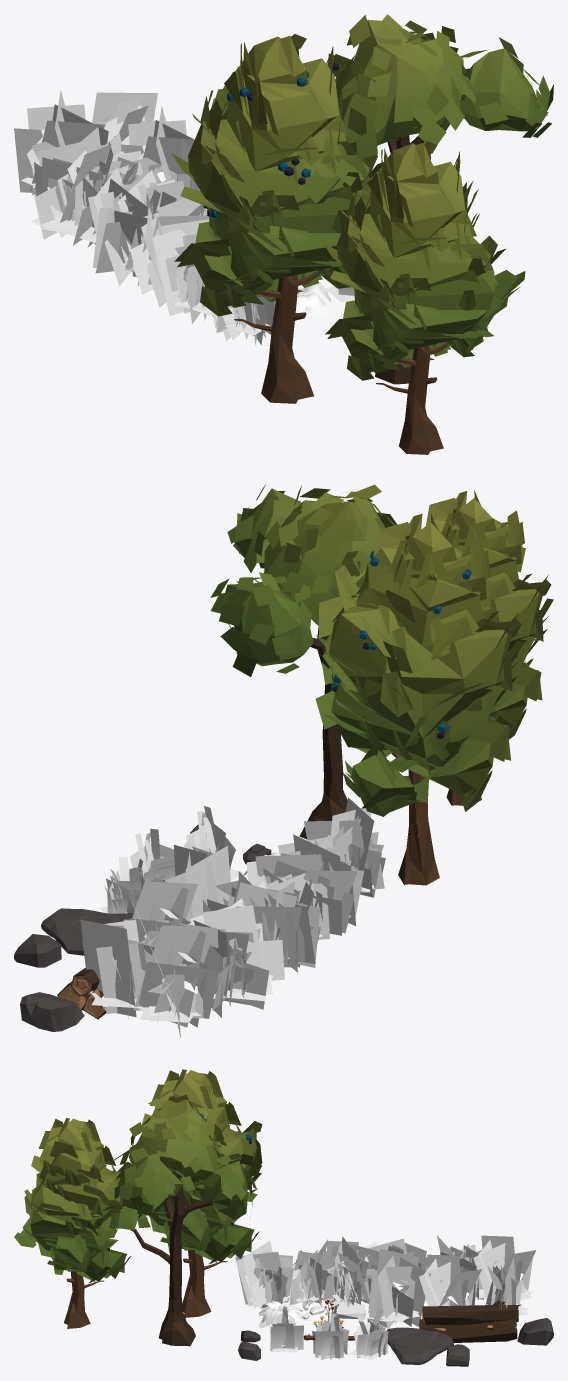
Rendered from tree.glb.
3 renders of one model, top to bottom at view 1: azimuth 30°, elevation 25°; view 2: azimuth 150°, elevation 25°; view 3: azimuth 270°, elevation 25°, orthographic. The views are drawn at different scales.
Parts seen in each view (by area): view 1: tree-juniper-common-generic-sapling-a, tree-juniper-common-generic-sapling-b, tree-oak-english-generic-young-a, Plant_076, Plant_075, Plant_057, Plant_073, Plant_057.001, Plant_074, Plant_060, Plant_072, Plant_Assets_B_020; view 2: tree-juniper-common-generic-sapling-a, tree-oak-english-generic-young-a, tree-juniper-common-generic-sapling-b, Plant_057, Plant_076, Plant_075, Plant_060, Plant_074, Plant_072, Plant_056, Plant_057.001, rock-generic-flat-b (+7 smaller); view 3: tree-oak-english-generic-young-a, tree-juniper-common-generic-sapling-b, tree-juniper-common-generic-sapling-a, Plant_056, tree-oak-english-part-log-pile-a, Plant_072, Plant_074, Plant_057.001, Plant_057, Plant_073, rock-generic-flat-b, Plant_Assets_B_062 (+9 smaller).
Part boxes in pixels (bbox=[...]): tree-juniper-common-generic-sapling-a: bbox=[171, 34, 383, 403]; tree-juniper-common-generic-sapling-b: bbox=[323, 141, 525, 454]; tree-oak-english-generic-young-a: bbox=[304, 14, 553, 384]; Plant_076: bbox=[30, 127, 142, 247]; Plant_075: bbox=[88, 167, 205, 286]; Plant_057: bbox=[14, 90, 108, 196]; Plant_073: bbox=[152, 219, 213, 324]; Plant_057.001: bbox=[121, 105, 194, 184]; Plant_074: bbox=[130, 192, 209, 307]; Plant_060: bbox=[92, 92, 159, 144]; Plant_072: bbox=[212, 295, 275, 345]; Plant_Assets_B_020: bbox=[295, 282, 330, 321]; tree-juniper-common-generic-sapling-a: bbox=[315, 513, 524, 885]; tree-oak-english-generic-young-a: bbox=[210, 484, 396, 839]; tree-juniper-common-generic-sapling-b: bbox=[426, 490, 553, 805]; Plant_057: bbox=[133, 921, 220, 1040]; Plant_076: bbox=[159, 904, 284, 1017]; Plant_075: bbox=[207, 871, 320, 972]; Plant_060: bbox=[80, 919, 155, 1019]; Plant_074: bbox=[246, 853, 357, 940]; Plant_072: bbox=[304, 797, 385, 897]; Plant_056: bbox=[165, 845, 238, 922]; Plant_057.001: bbox=[123, 877, 197, 945]; rock-generic-flat-b: bbox=[41, 908, 133, 955]; tree-oak-english-generic-young-a: bbox=[107, 1094, 257, 1346]; tree-juniper-common-generic-sapling-b: bbox=[14, 1118, 131, 1328]; tree-juniper-common-generic-sapling-a: bbox=[137, 1069, 262, 1317]; Plant_056: bbox=[368, 1249, 430, 1328]; tree-oak-english-part-log-pile-a: bbox=[419, 1300, 520, 1342]; Plant_072: bbox=[235, 1241, 293, 1312]; Plant_074: bbox=[322, 1236, 379, 1307]; Plant_057.001: bbox=[419, 1254, 481, 1306]; Plant_057: bbox=[473, 1235, 536, 1300]; Plant_073: bbox=[289, 1239, 336, 1310]; rock-generic-flat-b: bbox=[386, 1327, 453, 1364]; Plant_Assets_B_062: bbox=[312, 1305, 349, 1359].
Bounding box in the file's own units: 7.47 × 7.96 × 16.19.
7 materials, 3 textured.
